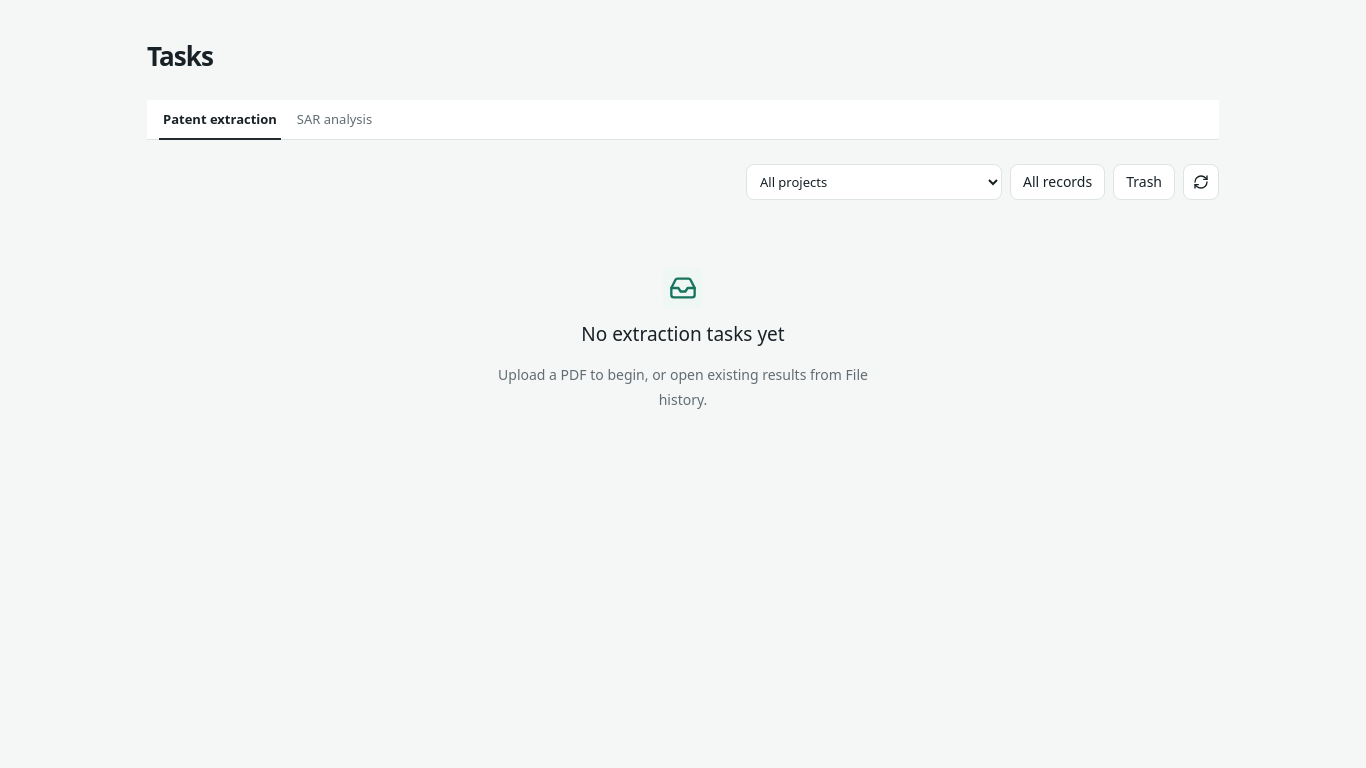
Test: uses existing confirmed soft removal
Click the tab "SAR analysis". click: {"x": 335, "y": 120}
box: x1=293 y1=100 x2=376 y2=139
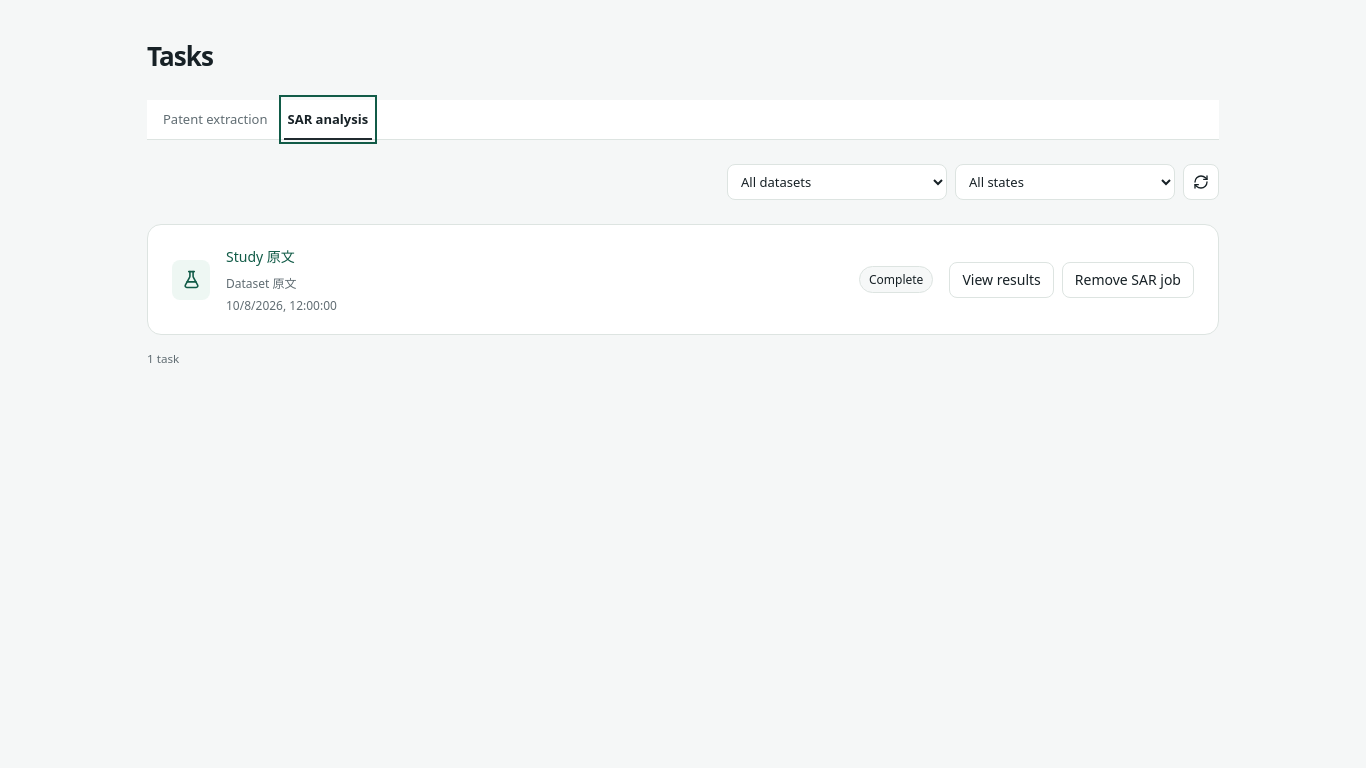
Result: the button "View results" is enabled at x1=949 y1=262 x2=1054 y2=298
Click the button "Remove SAR job". click: {"x": 1128, "y": 280}
box: x1=1062 y1=262 x2=1194 y2=298
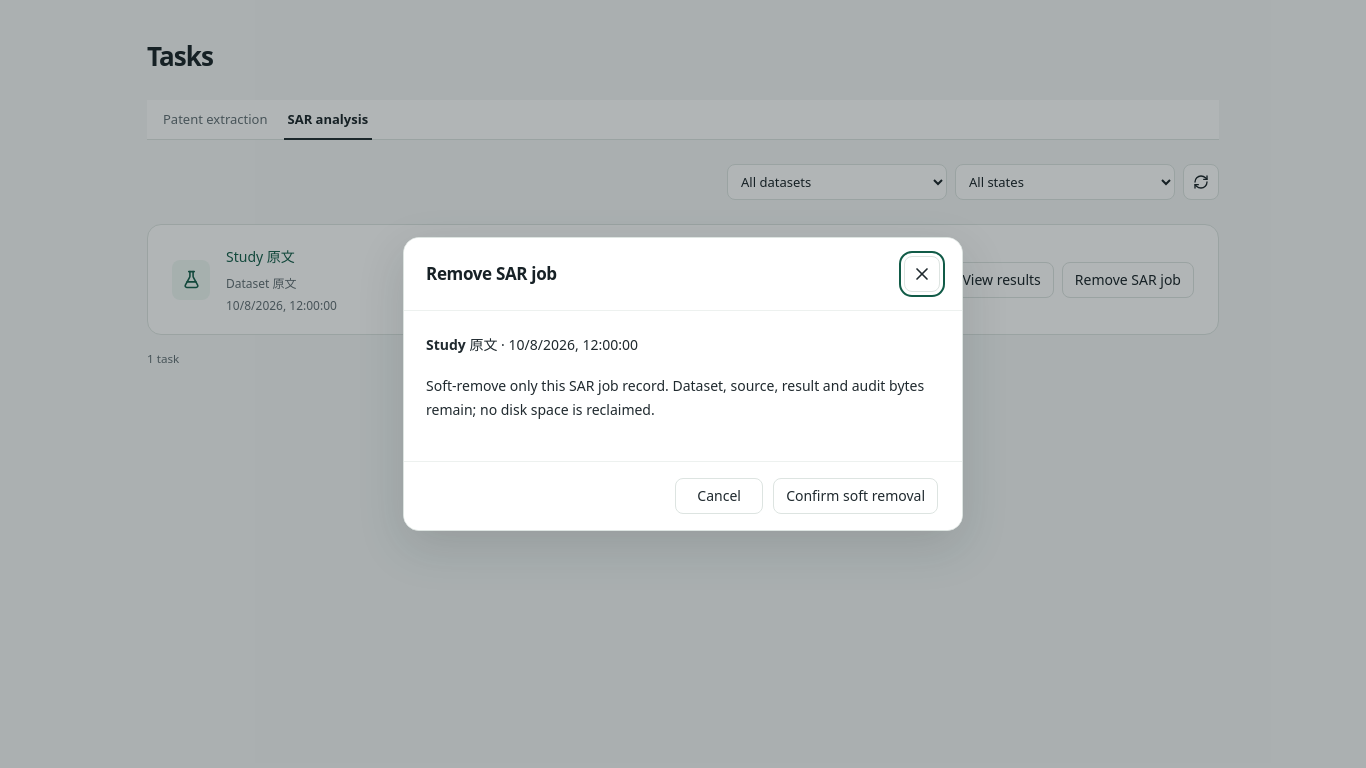
Click the button "Confirm soft removal". click: {"x": 856, "y": 496}
box: x1=773 y1=478 x2=938 y2=514
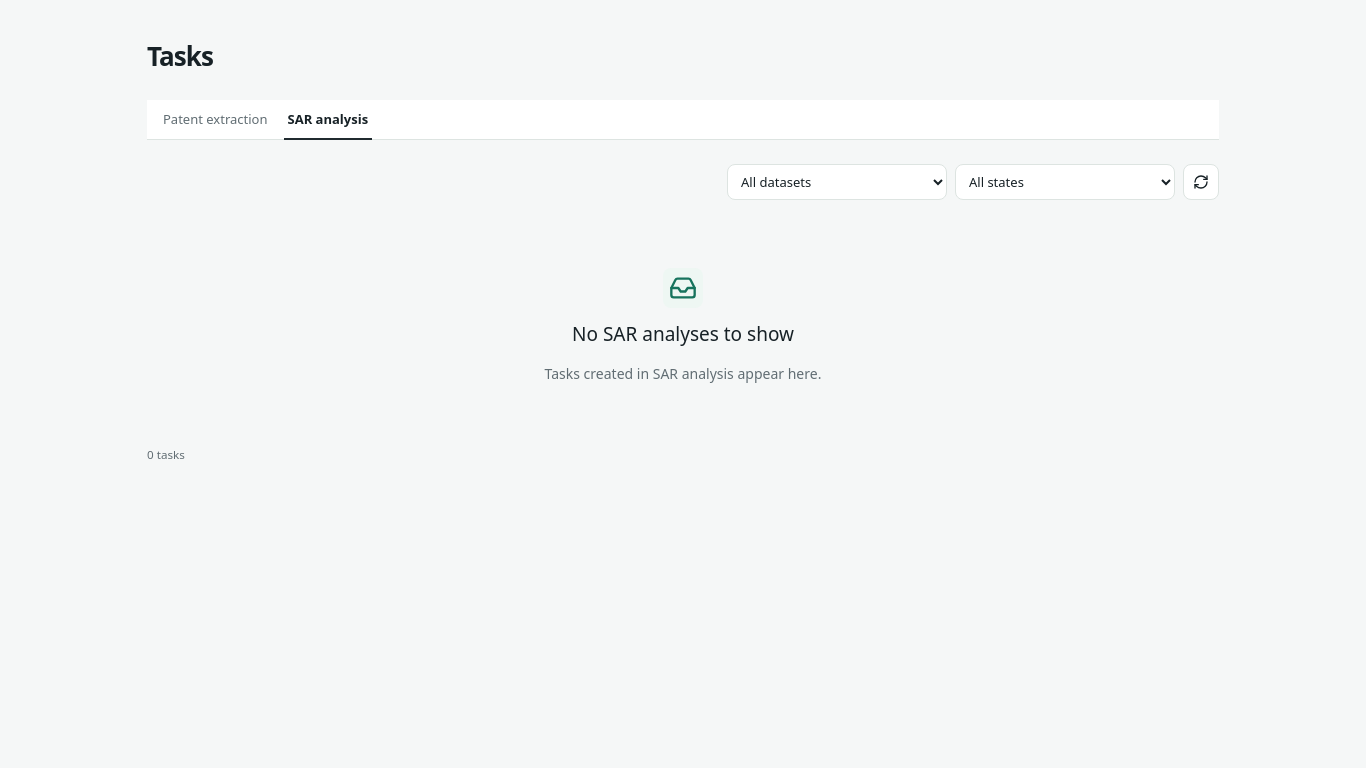
Result: the heading "No SAR analyses to show" is shown at x1=572 y1=320 x2=794 y2=349
